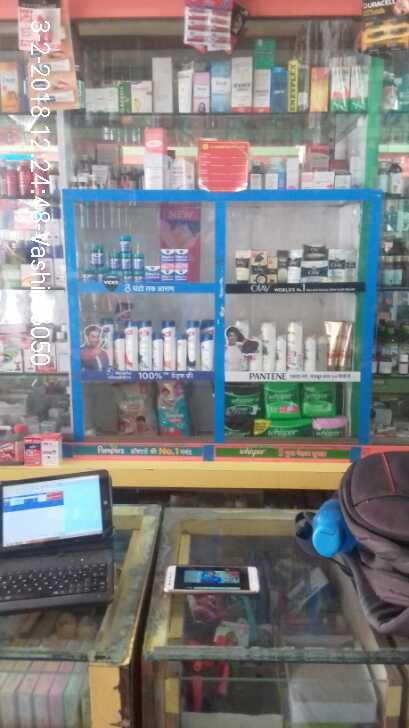beauty: (232, 301, 352, 370), (104, 315, 221, 369), (227, 245, 357, 283)
pharmacy: (79, 232, 195, 281), (111, 377, 155, 434), (150, 384, 189, 432), (221, 376, 262, 419), (262, 380, 301, 416), (296, 384, 340, 415)
